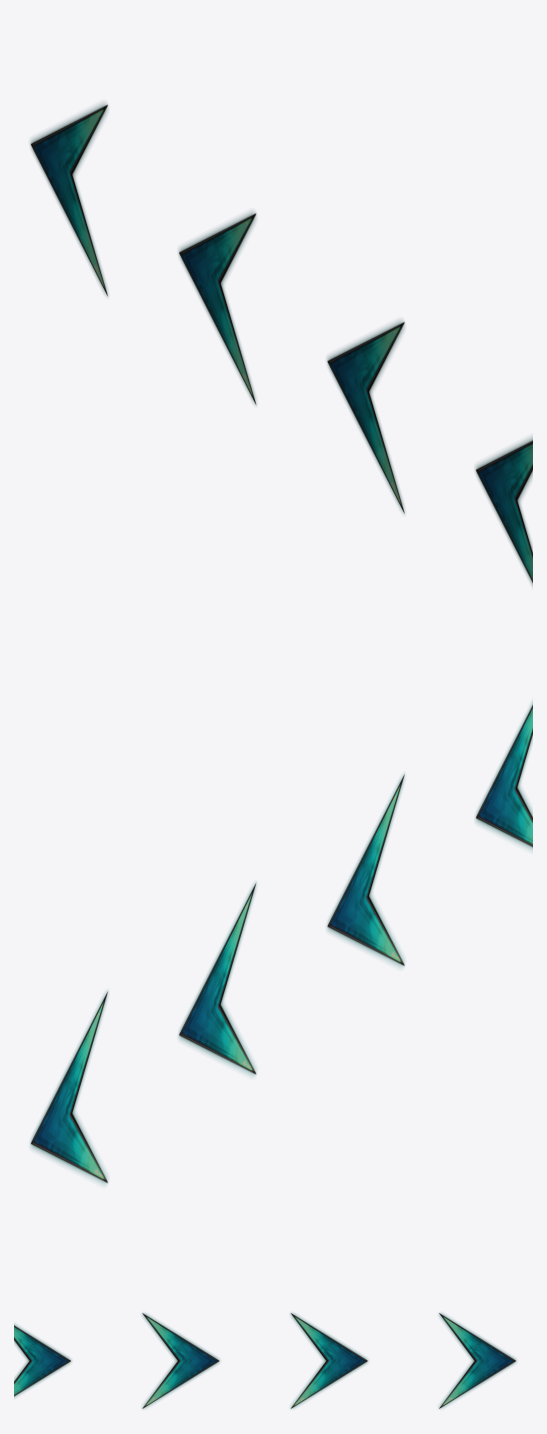
Rendered from PanelDisplay.001.glb.
3 renders of one model, top to bottom at view 1: azimuth 30°, elevation 25°; view 2: azimuth 150°, elevation 25°; view 3: azimuth 270°, elevation 25°, orthographic. The views are drawn at different scales.
Visible parts, largest first — view 1: blueZipper.png__; view 2: blueZipper.png__; view 3: blueZipper.png__.
Part boxes in pixels (x1,y1,x2,y2): blueZipper.png__: (30, 103, 532, 586); blueZipper.png__: (30, 701, 532, 1184); blueZipper.png__: (14, 1313, 516, 1408).
Bounding box in the file's own units: 2.38e-07 × 4 × 16.
Materials: 1 (1 with a texture image).
